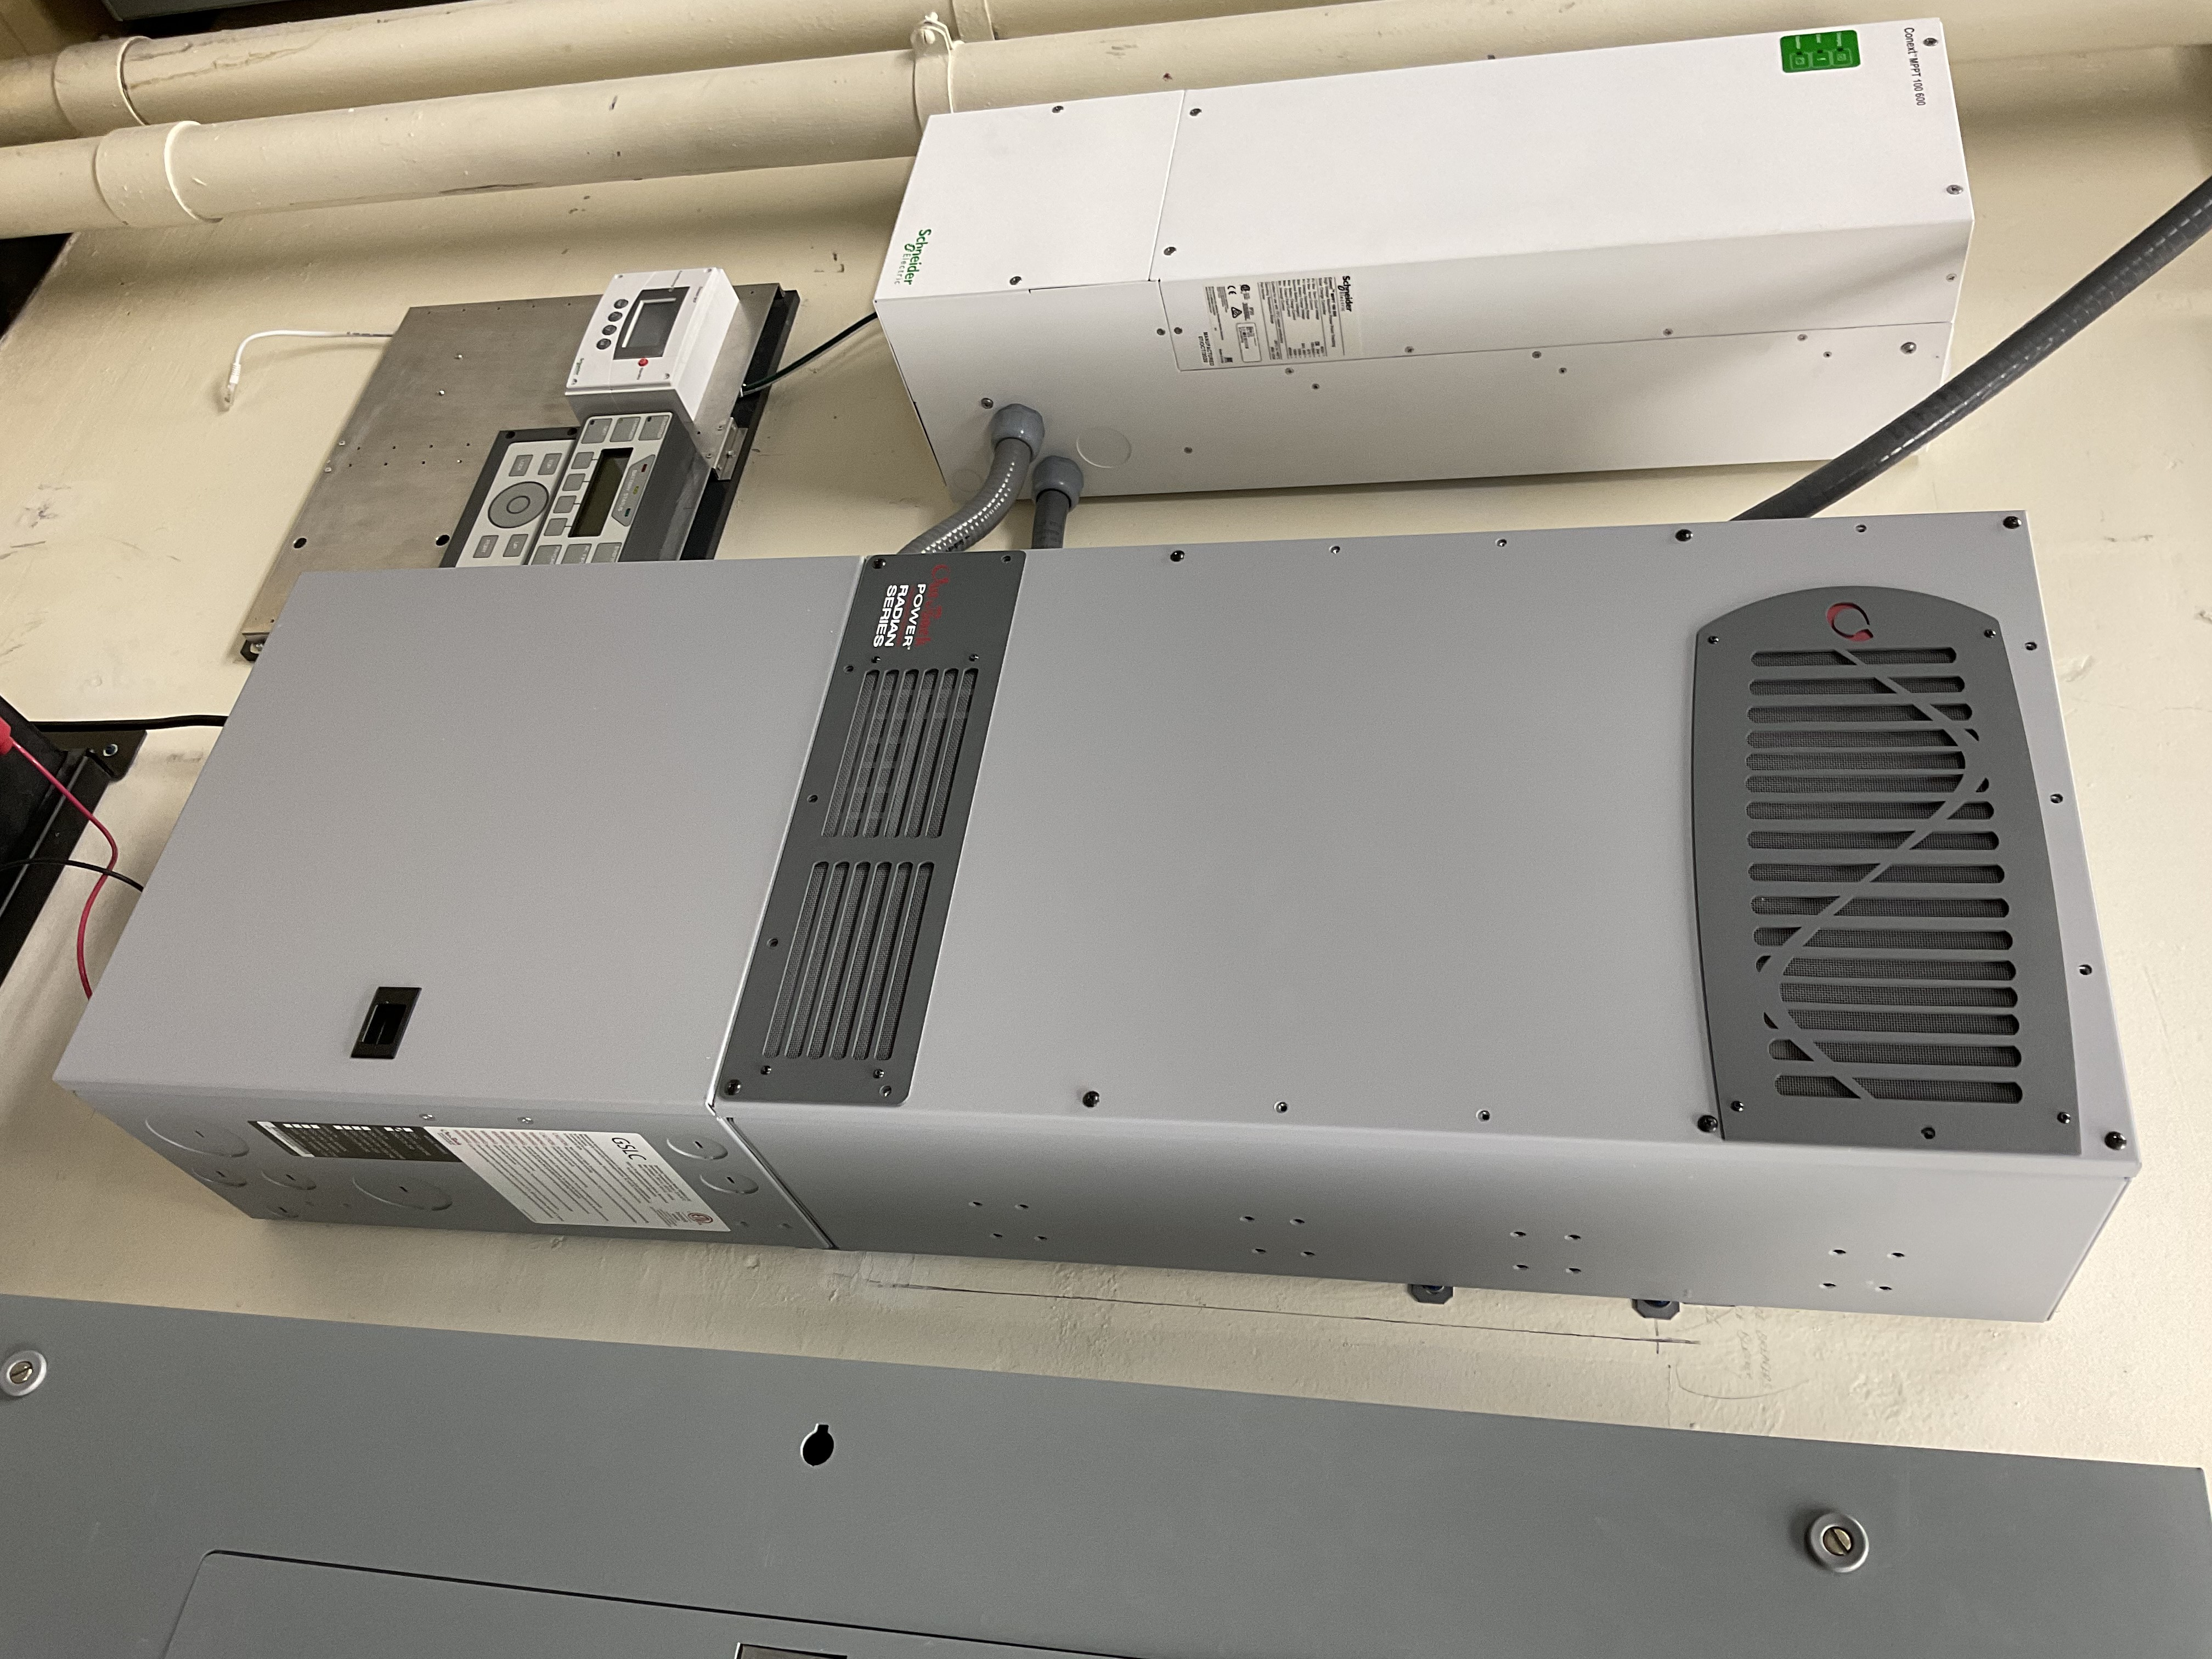charge_controller: (873, 14, 1965, 502)
inverter: (64, 507, 2144, 1326)
